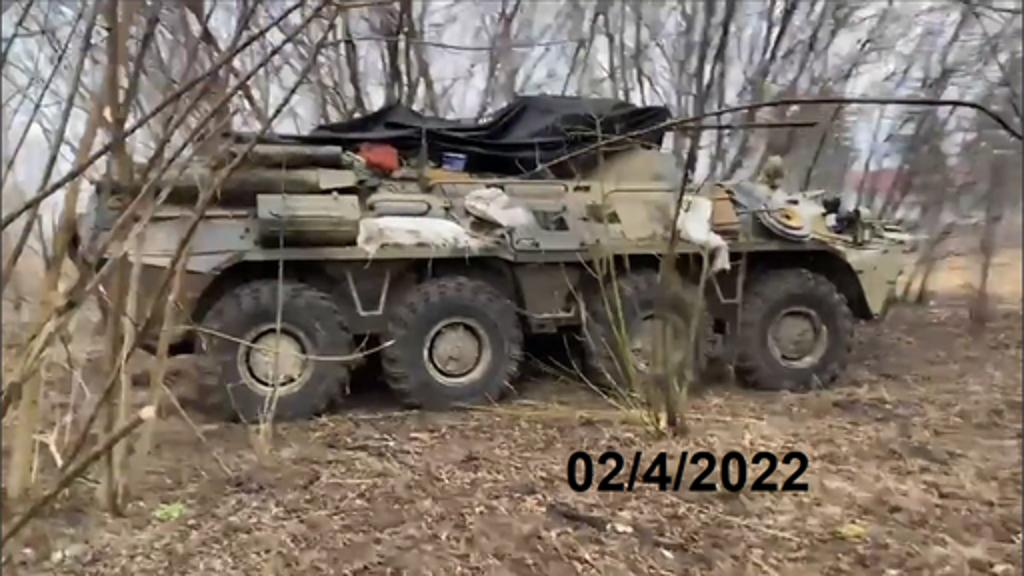APC-IFV: (34, 76, 908, 410)
